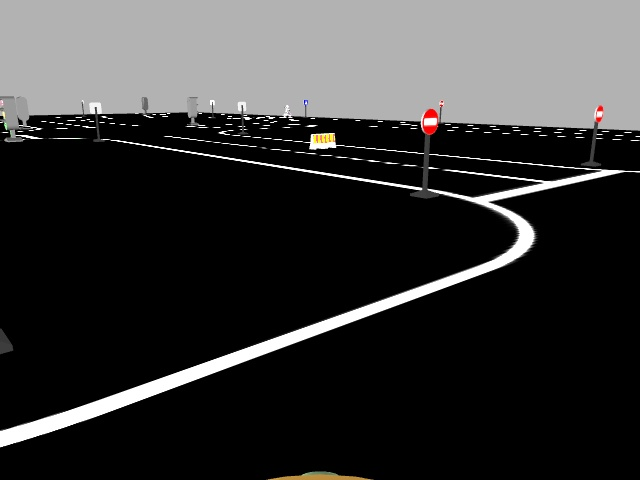NoEntry: (420, 106, 437, 136)
